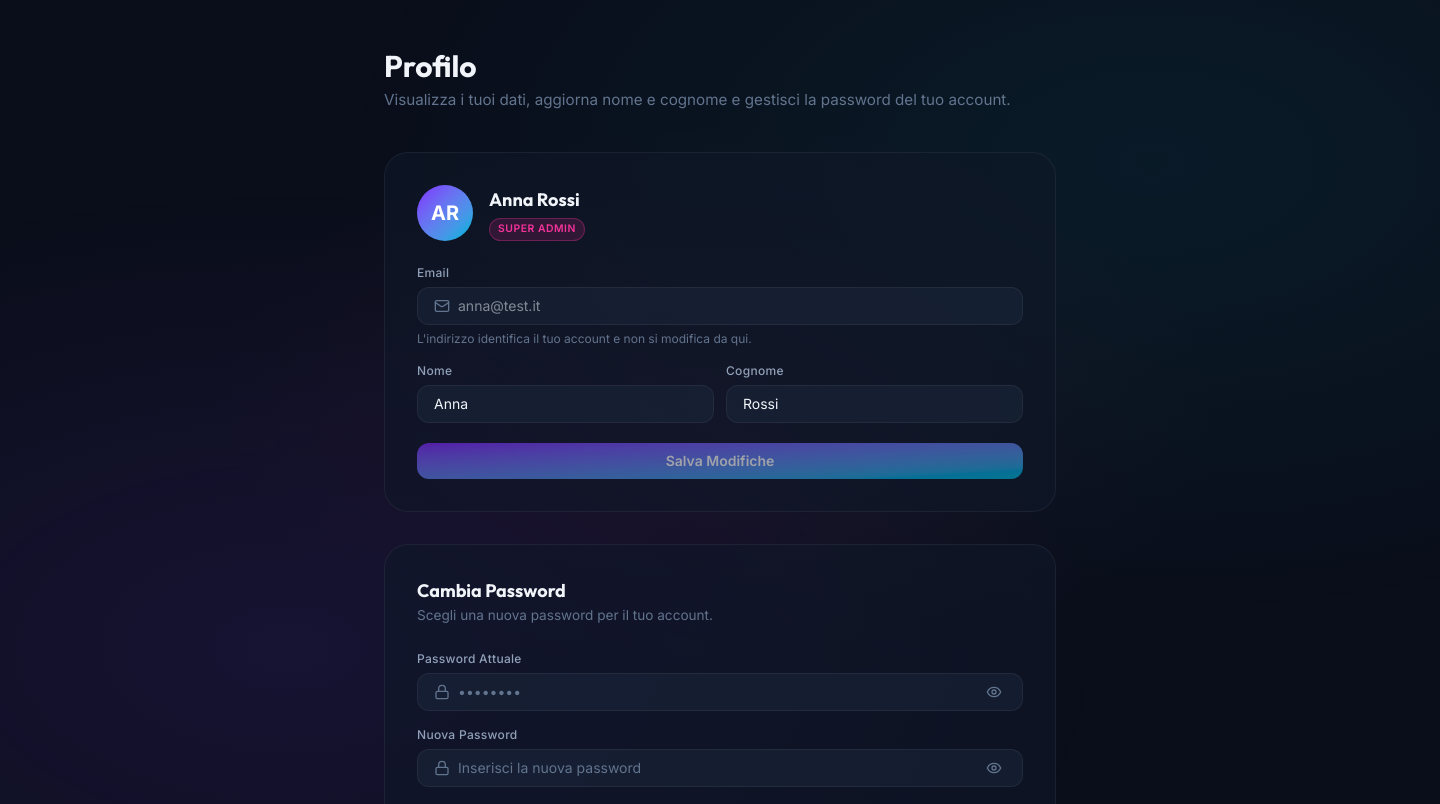
i propri dati › allinea la sessione con il profilo salvato
The width and height of the screenshot is (1440, 804).
Step 1. Type "lisa" into the field labelled "Nome" → coordinates (566, 404), box [434,386,697,422]
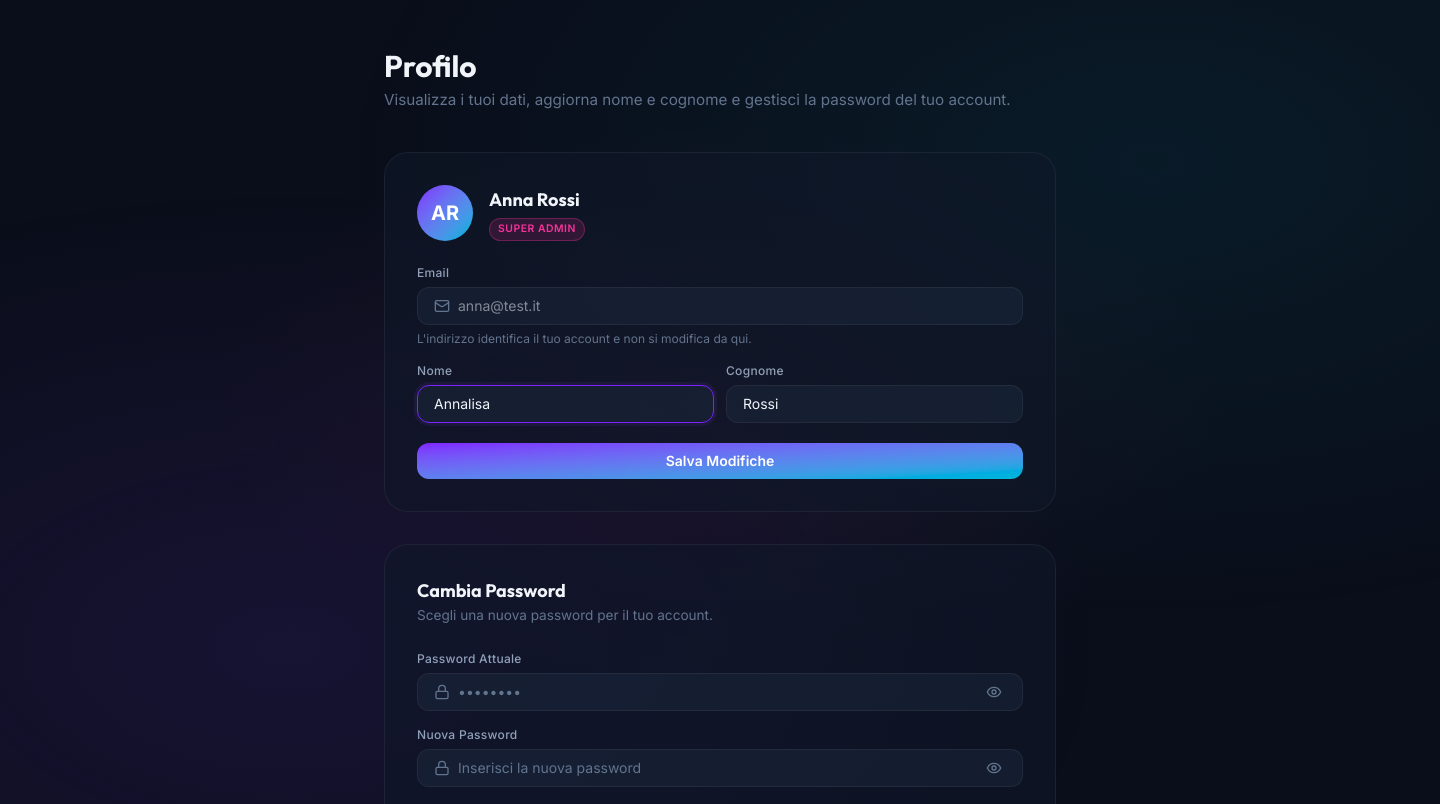
Step 2. Click the button "Salva Modifiche" → coordinates (720, 461), box [417,443,1023,479]
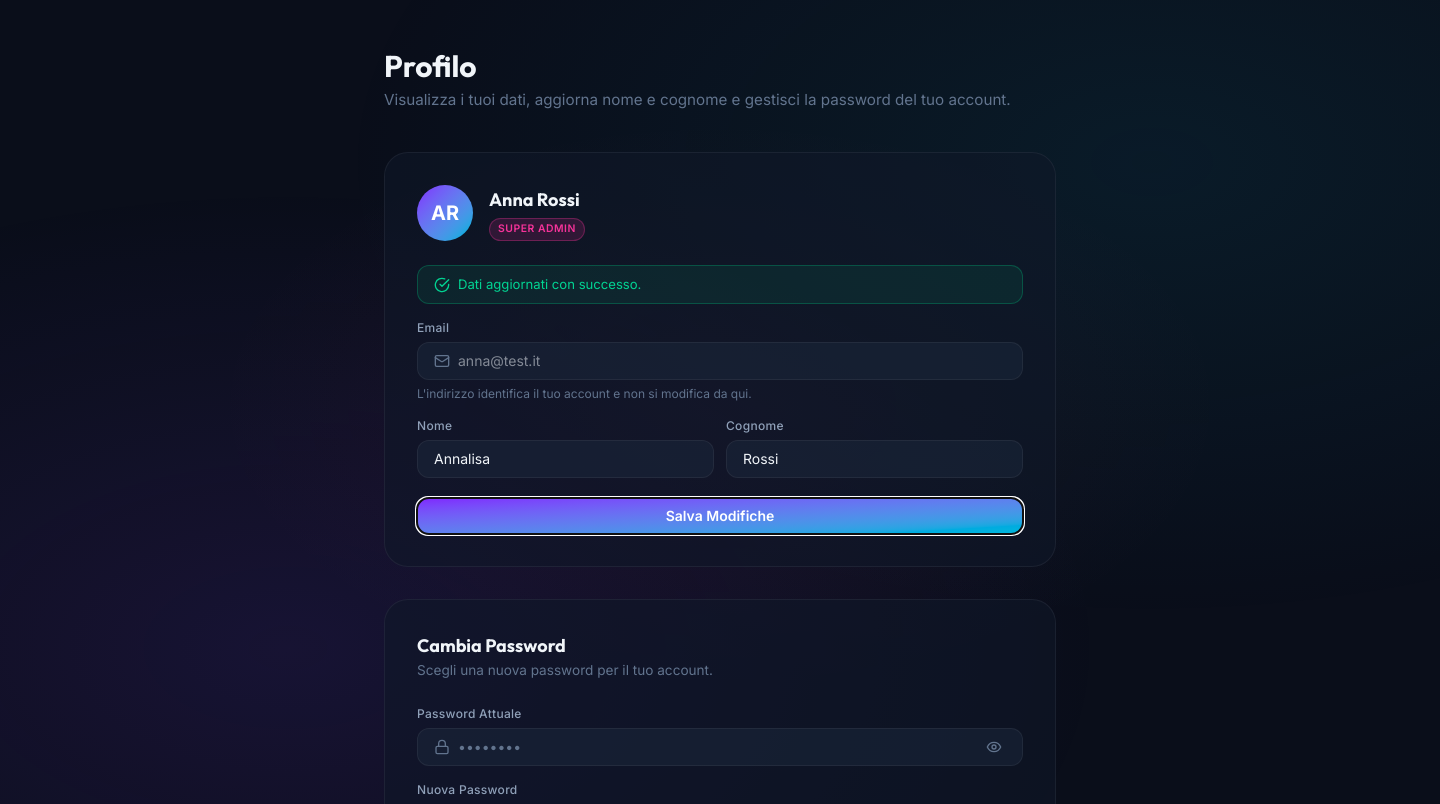
Expected: the text "Dati aggiornati con successo." is shown, [458,274,641,295]
